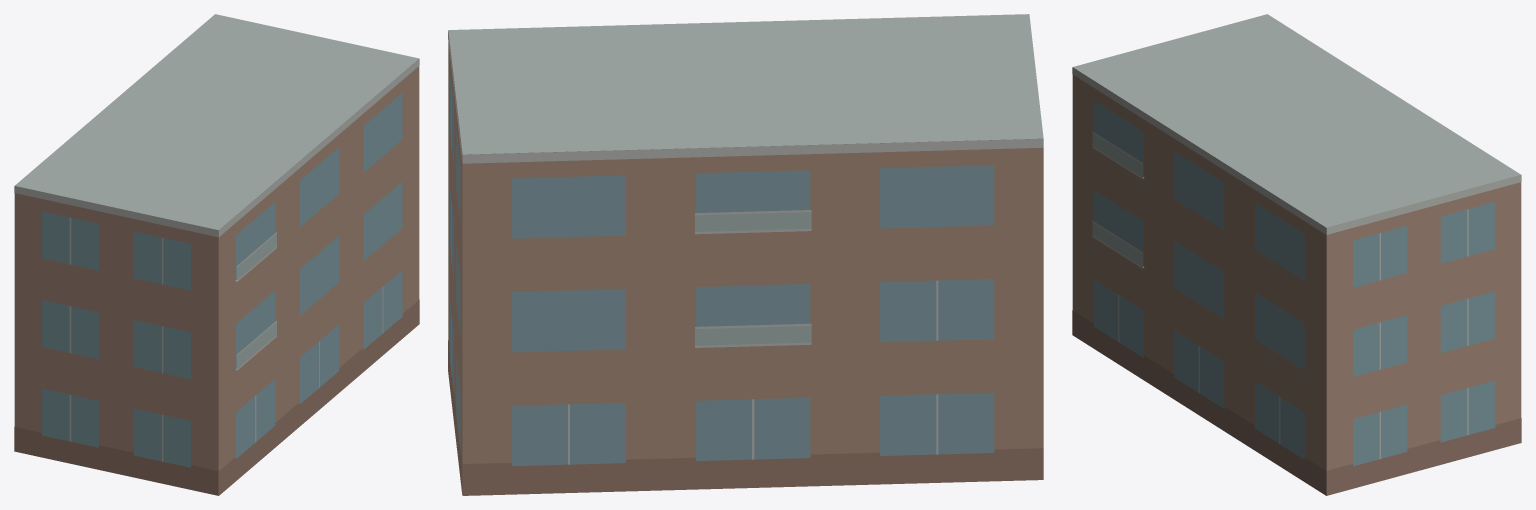
File: survey-upis-32676754.glb
3 renders of one model, left to right at view 1: azimuth 30°, elevation 25°; view 2: azimuth 150°, elevation 25°; view 3: azimuth 270°, elevation 25°, orthographic. The views are drawn at different scales.
Parts seen in each view (by area): view 1: survey-upis-32676754.tmp; view 2: survey-upis-32676754.tmp; view 3: survey-upis-32676754.tmp.
Part boxes in pixels (x1,y1,x2,y2): survey-upis-32676754.tmp: [14, 14, 419, 495]; survey-upis-32676754.tmp: [448, 14, 1043, 495]; survey-upis-32676754.tmp: [1072, 14, 1521, 495].
Size of the model in its own units: 15.58 by 9.1 by 13.82.
